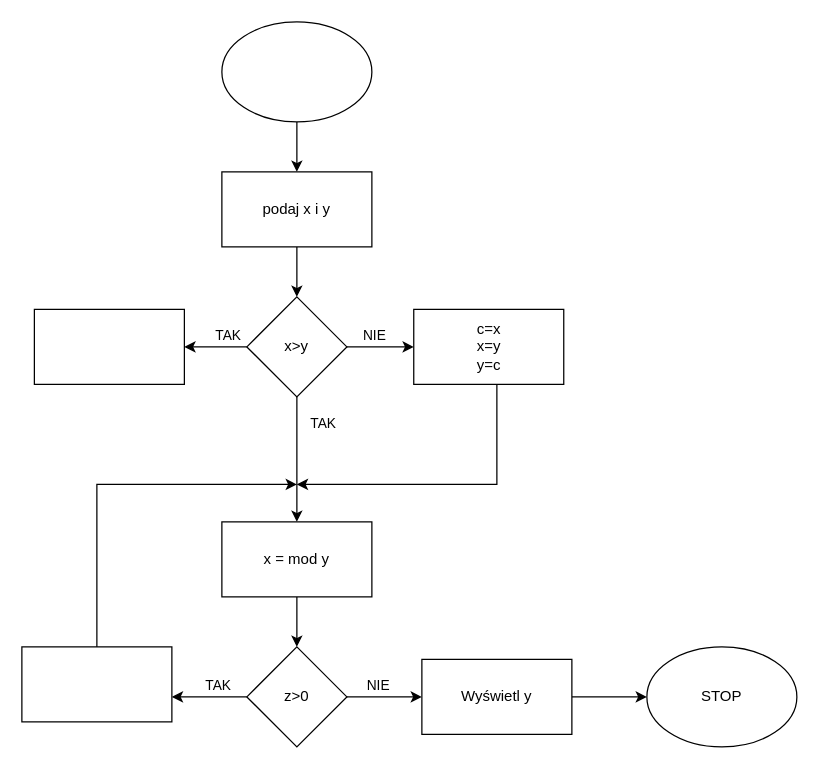
Image size: 819x769. Some labels were removed from this diagram. Each missing label, with the box of its shape:
a mod b: (33, 308, 184, 384)
START: (221, 21, 372, 122)
x = y y = x: (21, 646, 172, 722)
